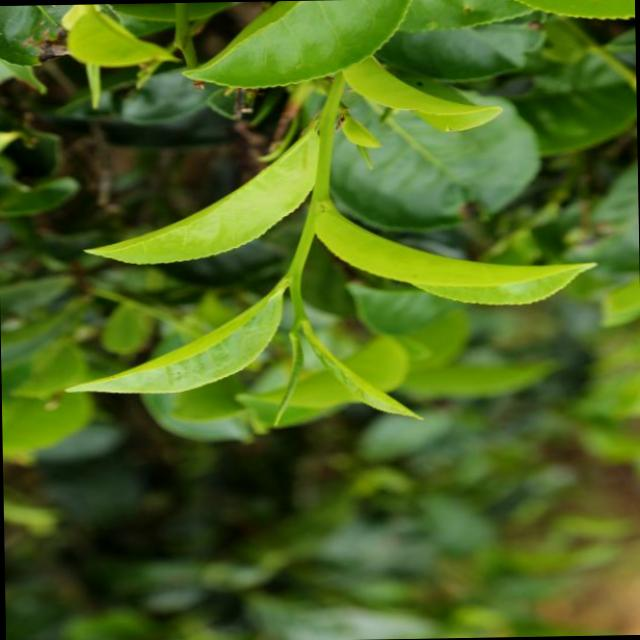Stem: (285, 271, 299, 284)
